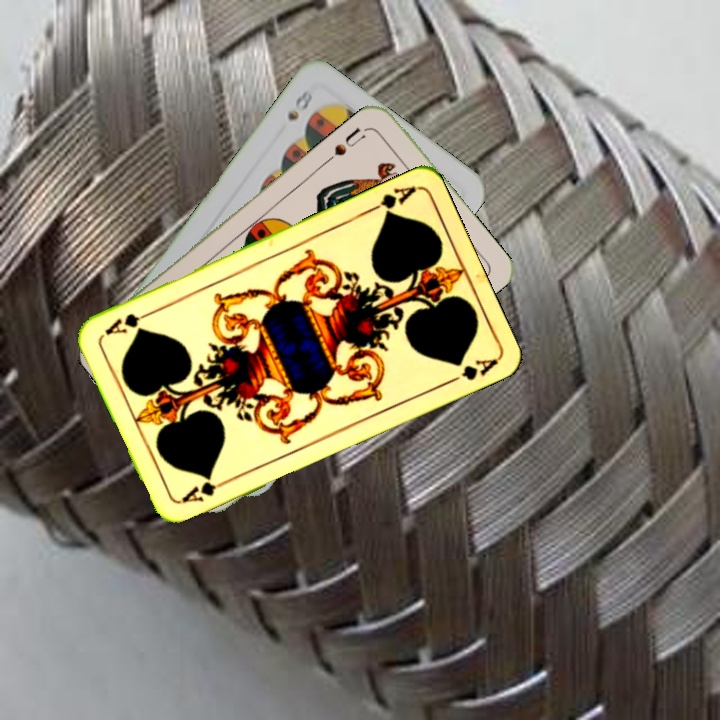GA: (363, 182, 419, 220), (176, 474, 233, 506)
S8: (283, 85, 315, 124)
SU: (322, 123, 373, 165)
